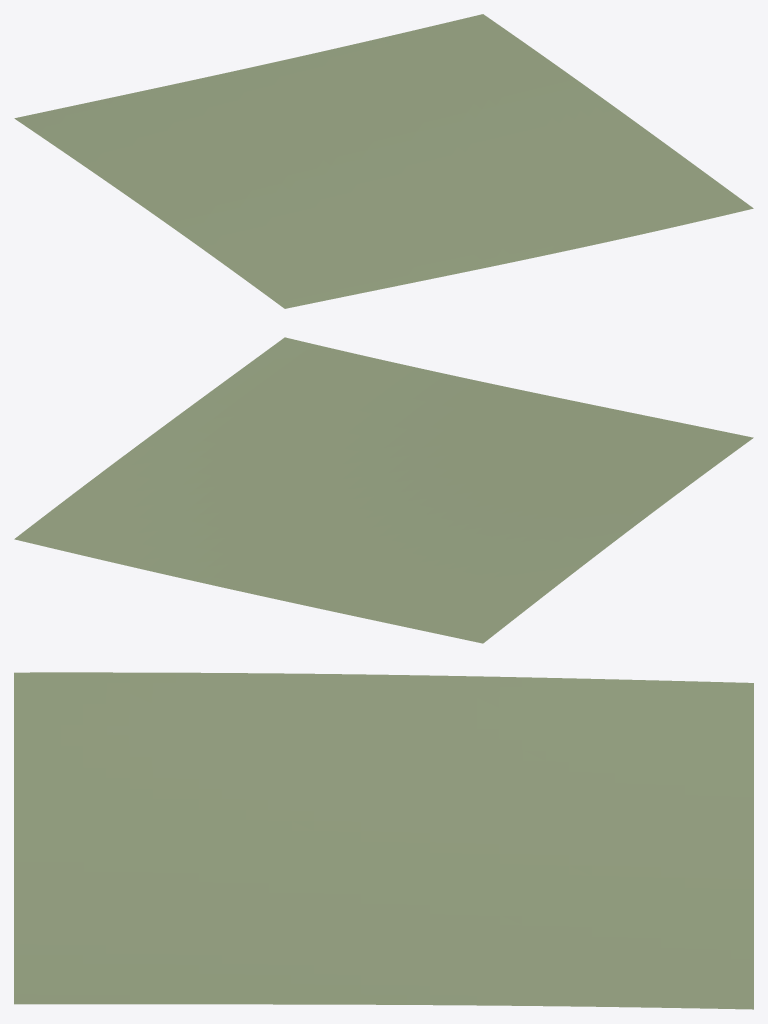
File: expanse-1-26.glb
3 renders of one model, top to bottom at view 1: azimuth 30°, elevation 25°; view 2: azimuth 150°, elevation 25°; view 3: azimuth 270°, elevation 25°, orthographic. The views are drawn at different scales.
Visible parts, largest first — view 1: expanse-1-26; view 2: expanse-1-26; view 3: expanse-1-26.
Part boxes in pixels (x1=…): expanse-1-26: x1=14, y1=14, x2=753, y2=308; expanse-1-26: x1=14, y1=337, x2=753, y2=643; expanse-1-26: x1=14, y1=672, x2=753, y2=1009.
Size of the model in its own units: 256 by 9.29 by 256.
